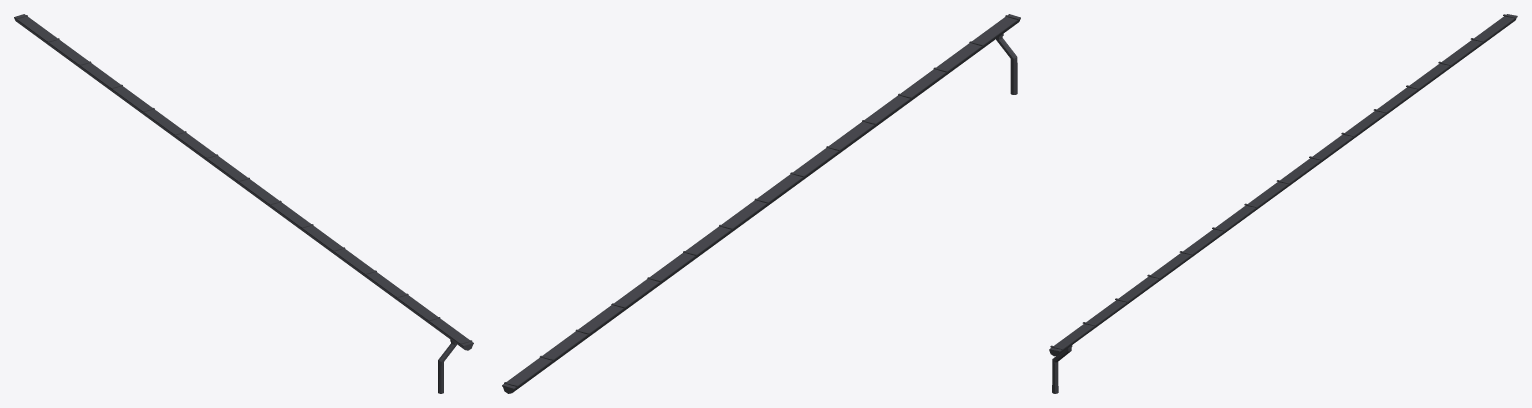
File: SM_Fixture_GutterGable_R_01.fbx
3 views of the same model, side by side, from view 1: azimuth 30°, elevation 25°; view 2: azimuth 150°, elevation 25°; view 3: azimuth 330°, elevation 25° (orthographic). The views are drawn at different scales.
Visible parts, largest first — view 1: SM_Fixture_GutterGable_R_01; view 2: SM_Fixture_GutterGable_R_01; view 3: SM_Fixture_GutterGable_R_01.
Part boxes in pixels (x1=…): SM_Fixture_GutterGable_R_01: x1=14, y1=14, x2=473, y2=393; SM_Fixture_GutterGable_R_01: x1=502, y1=14, x2=1020, y2=393; SM_Fixture_GutterGable_R_01: x1=1049, y1=14, x2=1517, y2=393.
Bounding box in the file's own units: 0.2347 × 0.585 × 8.49.
Materials: 1 (1 with a texture image).
